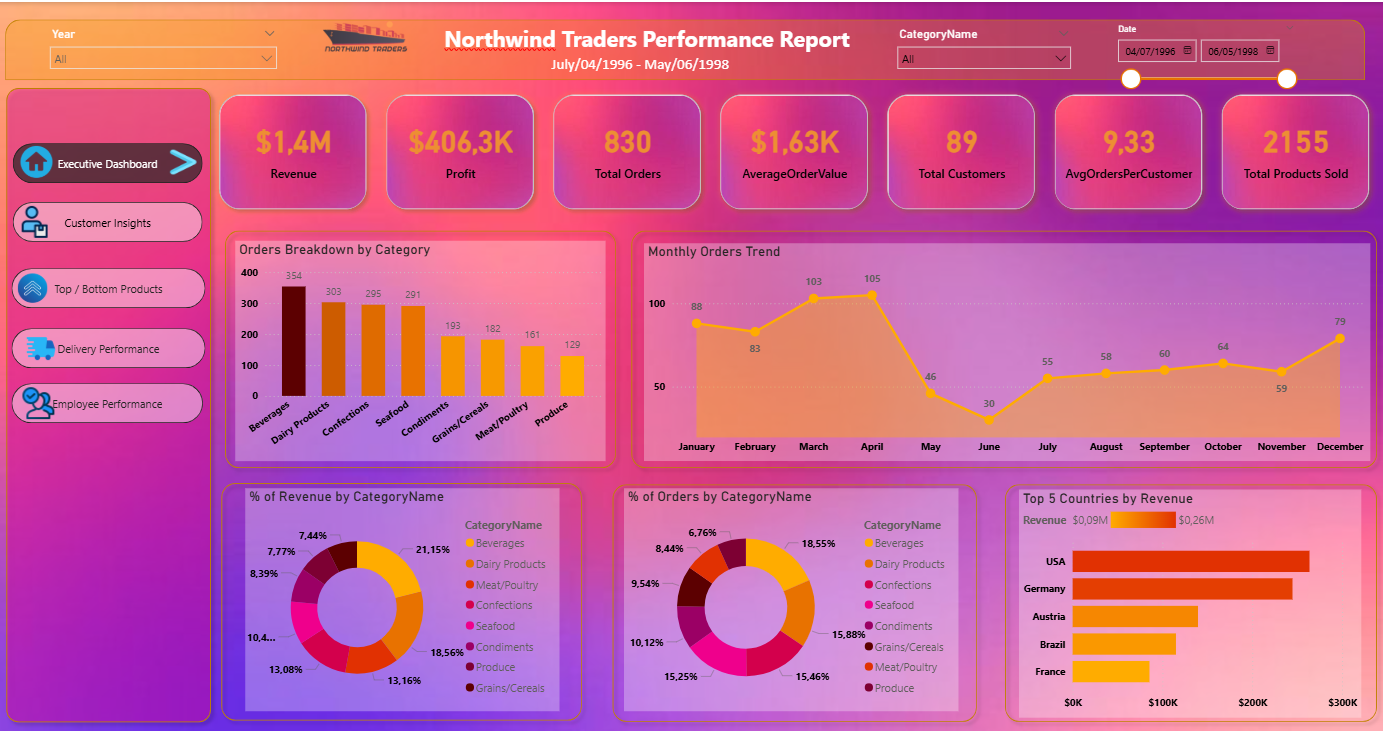

The page's visual inventory and layout, read from the dashboard file:
{"tool":"powerbi","page":{"name":"Executive Dashboard","canvas":[1700,900],"ordinal":0},"visuals":[{"type":"cardVisual","fields":{"Data":["Measures_table.Revenue","Measures_table.Profit","Measures_table.OrderCount","Measures_table.AverageOrderValue","Measures_table.Total Customers","Measures_table.Avg Orders per customer","Measures_table.Total Products Sold"]},"box":[253.5,96.4,1446.1,175.7],"z":0},{"type":"shape","box":[7.8,21.8,1668.5,74.6],"z":1000},{"type":"textbox","box":[426.1,21.8,737,49.8],"z":2000},{"type":"textbox","box":[494.5,59.1,586.2,37.3],"z":3000},{"type":"image","box":[379.4,0,138.4,79.3],"z":4000},{"type":"shape","box":[269,272.1,497.6,309.4],"z":5000},{"type":"shape","box":[766.6,272.1,933,309.4],"z":6000},{"type":"clusteredColumnChart","title":"Orders Breakdown by Category","fields":{"Category":["categories.CategoryName"],"Y":["Measures_table.Total Orders"]},"box":[289.2,292.3,454,270.6],"z":7000},{"type":"areaChart","title":"Monthly Orders Trend","fields":{"Category":["Dates.Date.Variation.Date Hierarchy.Month"],"Y":["Measures_table.Total Orders"]},"box":[791.5,295.4,891,267.5],"z":8000},{"type":"shape","box":[264.3,581.6,460.3,309.4],"z":9000},{"type":"shape","box":[743.3,583.1,464.9,309.4],"z":10000},{"type":"shape","box":[1225.3,583.1,474.3,309.4],"z":11000},{"type":"donutChart","title":"% of Revenue by CategoryName","fields":{"Category":["categories.CategoryName"],"Y":["Measures_table.Revenue"]},"box":[301.7,597.1,385.6,273.7],"z":12000},{"type":"donutChart","title":"% of Orders by CategoryName","fields":{"Y":["Measures_table.Total Orders"],"Category":["categories.CategoryName"]},"box":[766.6,597.1,410.5,273.7],"z":13000},{"type":"clusteredBarChart","title":"Top 5 Countries by Revenue","fields":{"Y":["Measures_table.Revenue"],"Category":["customers.Country"]},"box":[1251.7,598.7,419.8,279.9],"z":14000},{"type":"shape","box":[0,96.4,269,796.1],"z":15000},{"type":"slicer","fields":{"Values":["categories.CategoryName"]},"box":[1091.6,26.4,233.2,63.8],"z":16000},{"type":"slicer","fields":{"Values":["Dates.Date"]},"box":[1360.6,21.8,241,96.4],"z":17000},{"type":"pageNavigator","box":[17.1,172.6,233.2,49.8],"z":18000},{"type":"pageNavigator","box":[16.4,246,233.3,49.2],"z":19000},{"type":"slicer","fields":{"Values":["Dates.Date.Variation.Date Hierarchy.Year"]},"box":[52.9,25.5,298.9,65.6],"z":20000},{"type":"image","box":[202.3,176.8,47.4,40.1],"z":28000},{"type":"image","box":[18.2,171.3,54.7,49.2],"z":29000},{"type":"pageNavigator","box":[14.6,326.2,238.7,49.2],"z":30000},{"type":"pageNavigator","box":[14.6,400.9,238.7,49.2],"z":31000},{"type":"pageNavigator","box":[14.6,468.4,235.1,49.2],"z":32000},{"type":"image","box":[20,468.4,56.5,49.2],"z":33000},{"type":"image","box":[23.7,400.9,56.5,49.2],"z":34000},{"type":"image","box":[18.2,326.2,45.6,49.2],"z":35000},{"type":"image","box":[14.6,246,56.5,49.2],"z":36000}]}

Visuals, with their boxes in screenshot pixels (x1, y1, x2, y2), scaled from the page's 1700x900 canvas onto the 1383x731 screenshot:
cardVisual - Measures_table.Revenue x Measures_table.Profit: box=[206, 78, 1382, 221]
shape: box=[6, 18, 1364, 78]
textbox: box=[347, 18, 946, 58]
textbox: box=[402, 48, 879, 78]
image: box=[309, 0, 421, 64]
shape: box=[219, 221, 624, 472]
shape: box=[624, 221, 1382, 472]
"Orders Breakdown by Category" clusteredColumnChart: box=[235, 237, 605, 457]
"Monthly Orders Trend" areaChart: box=[644, 240, 1369, 457]
shape: box=[215, 472, 589, 724]
shape: box=[605, 474, 983, 725]
shape: box=[997, 474, 1382, 725]
"% of Revenue by CategoryName" donutChart: box=[245, 485, 559, 707]
"% of Orders by CategoryName" donutChart: box=[624, 485, 958, 707]
"Top 5 Countries by Revenue" clusteredBarChart: box=[1018, 486, 1360, 714]
shape: box=[0, 78, 219, 725]
slicer - categories.CategoryName: box=[888, 21, 1078, 73]
slicer - Dates.Date: box=[1107, 18, 1303, 96]
pageNavigator: box=[14, 140, 204, 181]
pageNavigator: box=[13, 200, 203, 240]
slicer - Dates.Date.Variation.Date Hierarchy.Year: box=[43, 21, 286, 74]
image: box=[165, 144, 203, 176]
image: box=[15, 139, 59, 179]
pageNavigator: box=[12, 265, 206, 305]
pageNavigator: box=[12, 326, 206, 366]
pageNavigator: box=[12, 380, 203, 420]
image: box=[16, 380, 62, 420]
image: box=[19, 326, 65, 366]
image: box=[15, 265, 52, 305]
image: box=[12, 200, 58, 240]
